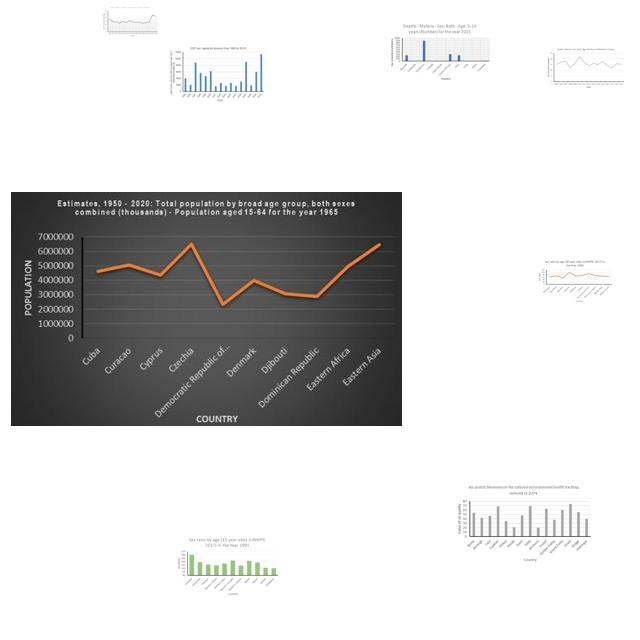Graph: (11, 192, 402, 426), (454, 482, 593, 565), (175, 536, 278, 596), (388, 22, 492, 81), (169, 45, 265, 102), (536, 259, 613, 304), (546, 47, 625, 90), (102, 6, 159, 37)
